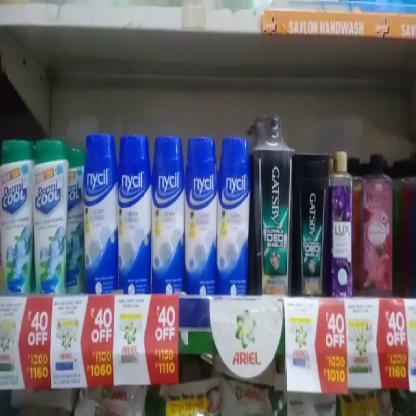Nycil Prickly Heat Powder: (84, 132, 118, 294), (152, 134, 184, 293)
